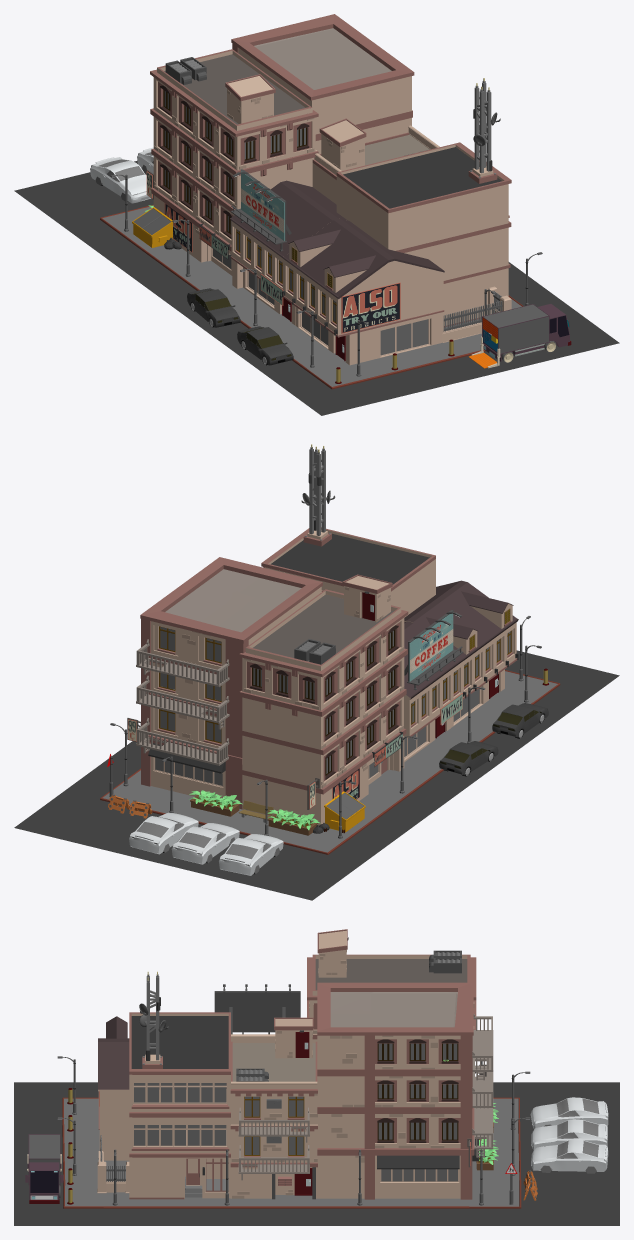
The model's file is low_poly_city_block-v1.glb.
3 views of the same model, one above another, from view 1: azimuth 30°, elevation 25°; view 2: azimuth 150°, elevation 25°; view 3: azimuth 270°, elevation 25° (orthographic).
Visible parts, largest first — view 1: Cube.002, house_prefab_2.002, Plane, house_prefab_3.002, Cube.001, house_prefab_3.001, Cube.006, truck_open.001, Cube.021, Cube.010, house_prefab_4.001, house_roof_prefab.001 (+9 smaller); view 2: Cube.002, Cube.001, Plane, house_prefab_2.002, house_prefab_3.002, Cube.006, house_prefab_3.001, Cube.021, Cube.009, house_roof_prefab.001, Cube.022, car.002 (+10 smaller); view 3: Cube.001, Plane, house_prefab_2.002, house_prefab_4.001, Cube.002, house_prefab_3.002, Cube.003, Cube.021, truck_open.001, Cube.010, car.001, Cube.009 (+13 smaller).
Part boxes in pixels (x1,y1,x2,y2): Cube.002: (150, 49, 318, 288); house_prefab_2.002: (336, 142, 511, 327); Plane: (14, 160, 619, 415); house_prefab_3.002: (282, 218, 444, 365); Cube.001: (231, 14, 414, 154); house_prefab_3.001: (230, 180, 346, 325); Cube.006: (120, 230, 343, 369); truck_open.001: (469, 304, 571, 368); Cube.021: (230, 169, 291, 251); Cube.010: (360, 333, 485, 378); house_prefab_4.001: (312, 132, 429, 204); house_roof_prefab.001: (225, 74, 275, 123); Cube.002: (239, 589, 408, 825); Cube.001: (136, 557, 322, 809); Plane: (14, 650, 619, 900); house_prefab_2.002: (261, 527, 435, 617); house_prefab_3.002: (404, 580, 518, 727); Cube.006: (323, 694, 534, 839); house_prefab_3.001: (404, 621, 463, 761); Cube.021: (404, 610, 463, 690); Cube.009: (150, 791, 296, 841); house_roof_prefab.001: (342, 574, 392, 622); Cube.022: (301, 444, 335, 546); car.002: (171, 823, 239, 864); Cube.001: (317, 982, 493, 1199); Plane: (14, 1082, 619, 1225); house_prefab_2.002: (129, 1012, 230, 1199); house_prefab_4.001: (230, 1041, 317, 1199); Cube.002: (307, 950, 476, 1043); house_prefab_3.002: (98, 1016, 186, 1160); Cube.003: (103, 1192, 469, 1208); Cube.021: (214, 984, 300, 1034); truck_open.001: (25, 1134, 63, 1203); Cube.010: (62, 1119, 113, 1185); car.001: (531, 1139, 608, 1173); Cube.009: (472, 1119, 521, 1185).
Size of the model in its own units: 28.88 by 21.15 by 51.56.
44 materials, 4 textured.
